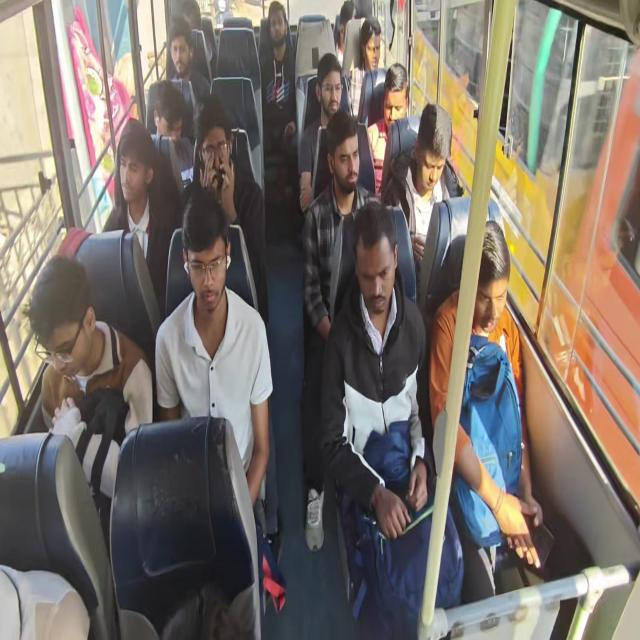person: (25, 3, 544, 636), (319, 200, 464, 638), (154, 184, 275, 540), (428, 219, 543, 572), (25, 254, 153, 546), (301, 109, 380, 552), (189, 94, 269, 326), (380, 102, 460, 302), (102, 118, 174, 320), (259, 2, 298, 207), (298, 52, 345, 214), (0, 563, 90, 638), (366, 62, 410, 196), (167, 18, 210, 142), (149, 80, 194, 196), (347, 17, 381, 119), (333, 0, 355, 68), (359, 17, 381, 71)
